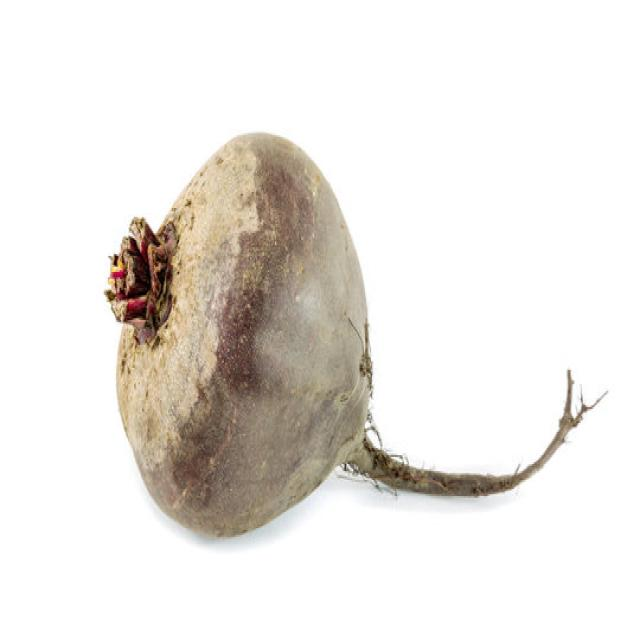Beetroot: (103, 128, 608, 539)
